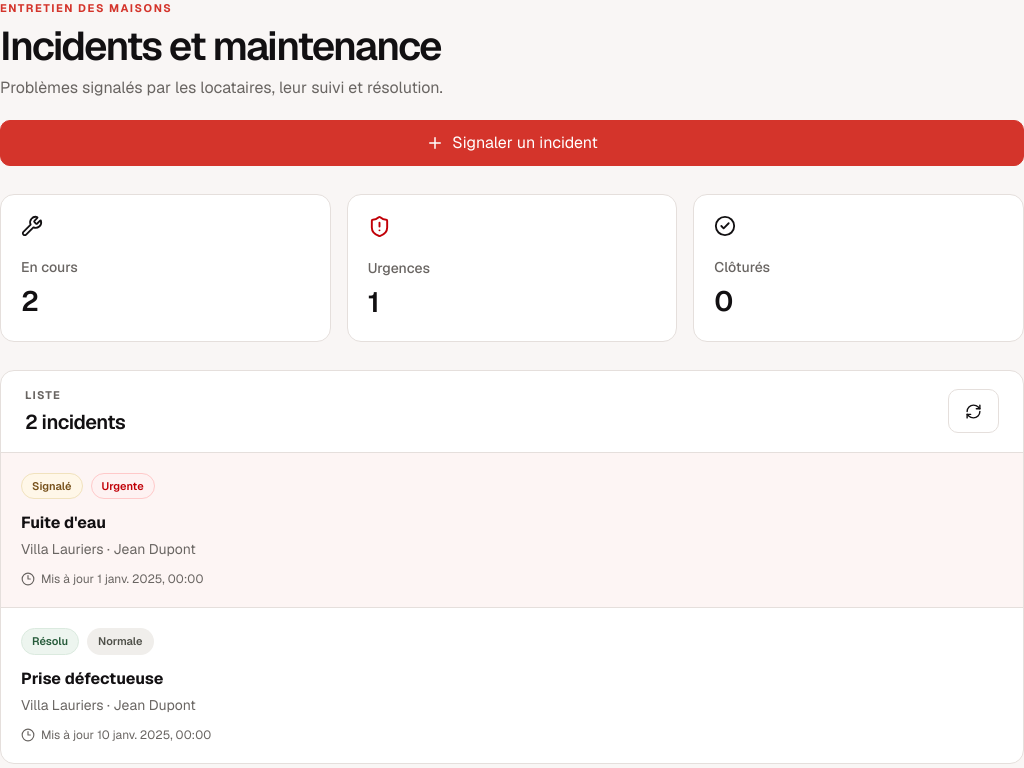
Test case: MaintenanceWorkspace › opens create incident modal on button click
Click the button "Signaler un incident": [512, 143] box [0,120,1023,166]
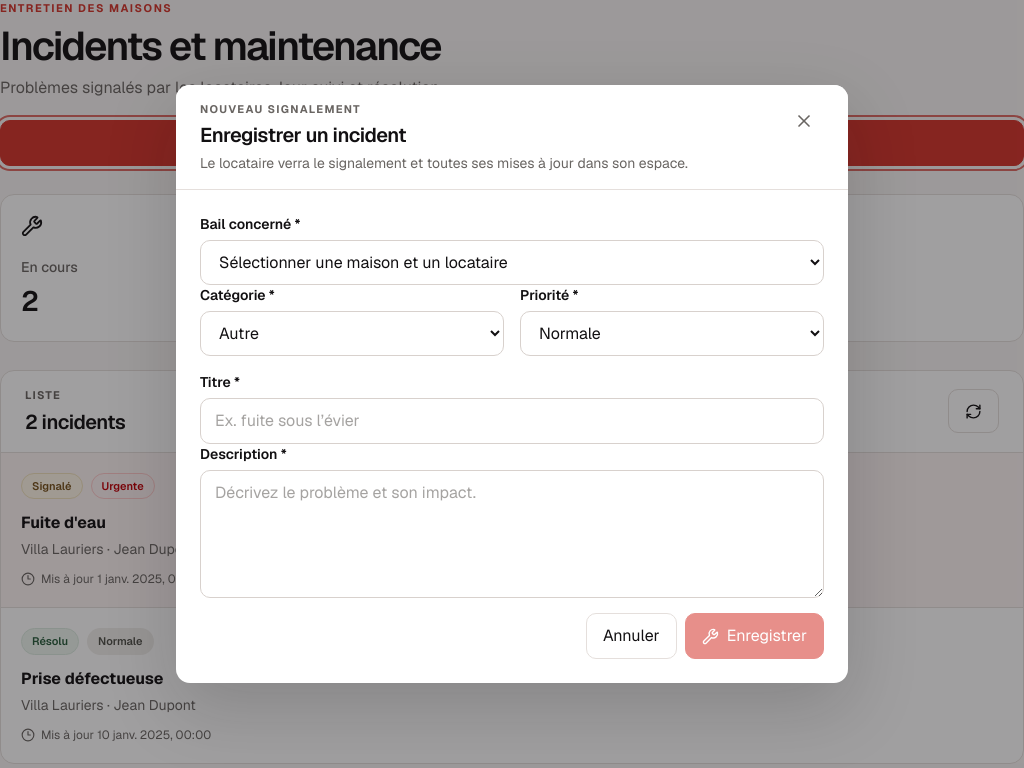
Result: the heading "Enregistrer un incident" is shown at [200,122,406,148]
